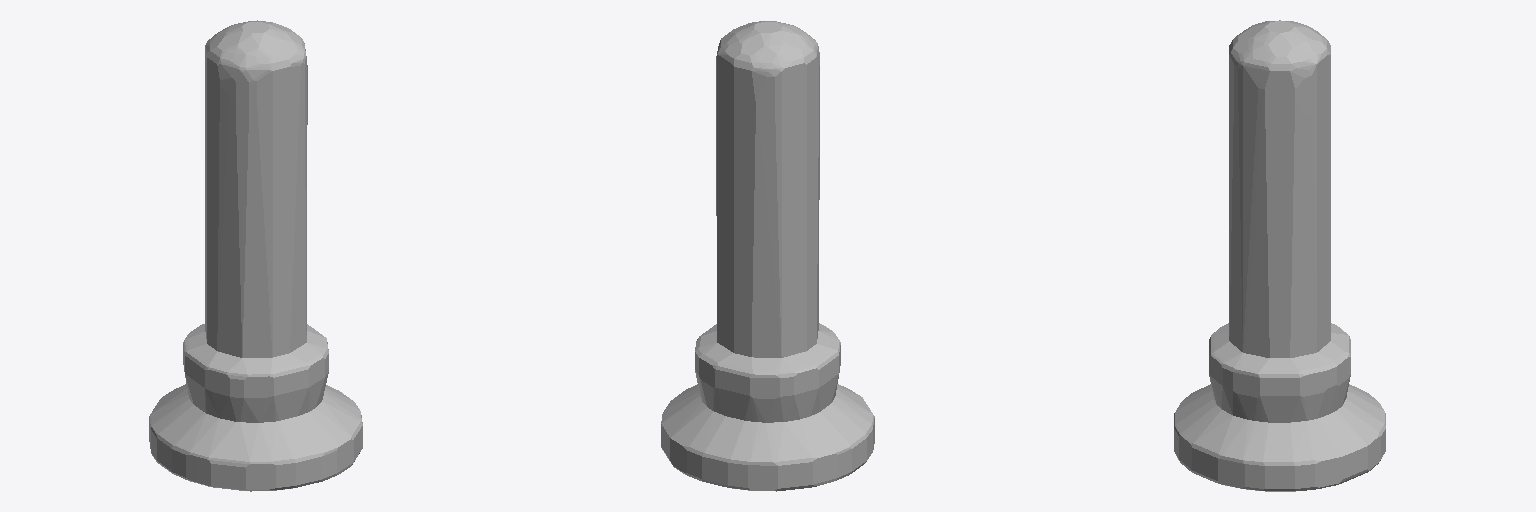
robot.urdf — root:
<robot name="root">
  <link name="link_coacd_convex_piece_0">
    <inertial>
      <origin xyz="0 0 0" rpy="0 0 0"/>
      <inertia ixx="1.71E-02" ixy="-1.99E-06" ixz="-8.30E-06" iyy="1.71E-02" iyz="2.50E-05" izz="2.42E-03"/>
    </inertial>
    <visual>
      <origin xyz="0 0 0" rpy="0 0 0"/>
      <geometry>
        <mesh filename="coacd_convex_piece_0.obj" scale="1.0000E+00 1.0000E+00 1.0000E+00"/>
      </geometry>
      <material name="">
        <color rgba="7.50E-01 7.50E-01 7.50E-01 1"/>
      </material>
    </visual>
    <collision>
      <origin xyz="0 0 0" rpy="0 0 0"/>
      <geometry>
        <mesh filename="coacd_convex_piece_0.obj" scale="1.0000E+00 1.0000E+00 1.0000E+00"/>
      </geometry>
    </collision>
  </link>
  <link name="link_coacd_convex_piece_1">
    <inertial>
      <origin xyz="0 0 0" rpy="0 0 0"/>
      <inertia ixx="1.18E-02" ixy="-1.61E-07" ixz="-4.83E-07" iyy="1.18E-02" iyz="-6.59E-07" izz="1.66E-03"/>
    </inertial>
    <visual>
      <origin xyz="0 0 0" rpy="0 0 0"/>
      <geometry>
        <mesh filename="coacd_convex_piece_1.obj" scale="1.0000E+00 1.0000E+00 1.0000E+00"/>
      </geometry>
      <material name="">
        <color rgba="7.50E-01 7.50E-01 7.50E-01 1"/>
      </material>
    </visual>
    <collision>
      <origin xyz="0 0 0" rpy="0 0 0"/>
      <geometry>
        <mesh filename="coacd_convex_piece_1.obj" scale="1.0000E+00 1.0000E+00 1.0000E+00"/>
      </geometry>
    </collision>
  </link>
  <joint name="link_coacd_convex_piece_1_joint" type="fixed">
    <origin xyz="0 0 0" rpy="0 0 0"/>
    <parent link="link_coacd_convex_piece_0"/>
    <child link="link_coacd_convex_piece_1"/>
  </joint>
  <link name="link_coacd_convex_piece_2">
    <inertial>
      <origin xyz="0 0 0" rpy="0 0 0"/>
      <inertia ixx="5.17E-02" ixy="4.28E-06" ixz="-1.05E-05" iyy="5.17E-02" iyz="-1.09E-05" izz="6.37E-03"/>
    </inertial>
    <visual>
      <origin xyz="0 0 0" rpy="0 0 0"/>
      <geometry>
        <mesh filename="coacd_convex_piece_2.obj" scale="1.0000E+00 1.0000E+00 1.0000E+00"/>
      </geometry>
      <material name="">
        <color rgba="7.50E-01 7.50E-01 7.50E-01 1"/>
      </material>
    </visual>
    <collision>
      <origin xyz="0 0 0" rpy="0 0 0"/>
      <geometry>
        <mesh filename="coacd_convex_piece_2.obj" scale="1.0000E+00 1.0000E+00 1.0000E+00"/>
      </geometry>
    </collision>
  </link>
  <joint name="link_coacd_convex_piece_2_joint" type="fixed">
    <origin xyz="0 0 0" rpy="0 0 0"/>
    <parent link="link_coacd_convex_piece_1"/>
    <child link="link_coacd_convex_piece_2"/>
  </joint>
</robot>

--- Render facts (derived) ---
3 views of the same robot in one strip: view 1: azimuth 30°, elevation 25°; view 2: azimuth 150°, elevation 25°; view 3: azimuth 270°, elevation 25° (orthographic).
Model root with 3 links and 2 joints (2 fixed), rooted at link_coacd_convex_piece_0, posed every joint at zero.
Visible links, largest first — view 1: link_coacd_convex_piece_0, link_coacd_convex_piece_2, link_coacd_convex_piece_1; view 2: link_coacd_convex_piece_0, link_coacd_convex_piece_2, link_coacd_convex_piece_1; view 3: link_coacd_convex_piece_0, link_coacd_convex_piece_2, link_coacd_convex_piece_1.
Boxes of the visible links, bbox=[...] form: link_coacd_convex_piece_0: bbox=[205, 20, 307, 357]; link_coacd_convex_piece_2: bbox=[149, 384, 362, 491]; link_coacd_convex_piece_1: bbox=[183, 324, 328, 422]; link_coacd_convex_piece_0: bbox=[716, 21, 819, 357]; link_coacd_convex_piece_2: bbox=[661, 384, 874, 491]; link_coacd_convex_piece_1: bbox=[695, 323, 840, 422]; link_coacd_convex_piece_0: bbox=[1229, 20, 1330, 357]; link_coacd_convex_piece_2: bbox=[1174, 384, 1385, 491]; link_coacd_convex_piece_1: bbox=[1209, 323, 1350, 422].
Size in the robot's own frame: 0.8172 by 0.8172 by 1.79 metres.
3 mesh visuals loaded from 3 distinct referenced files (3 OBJ).
